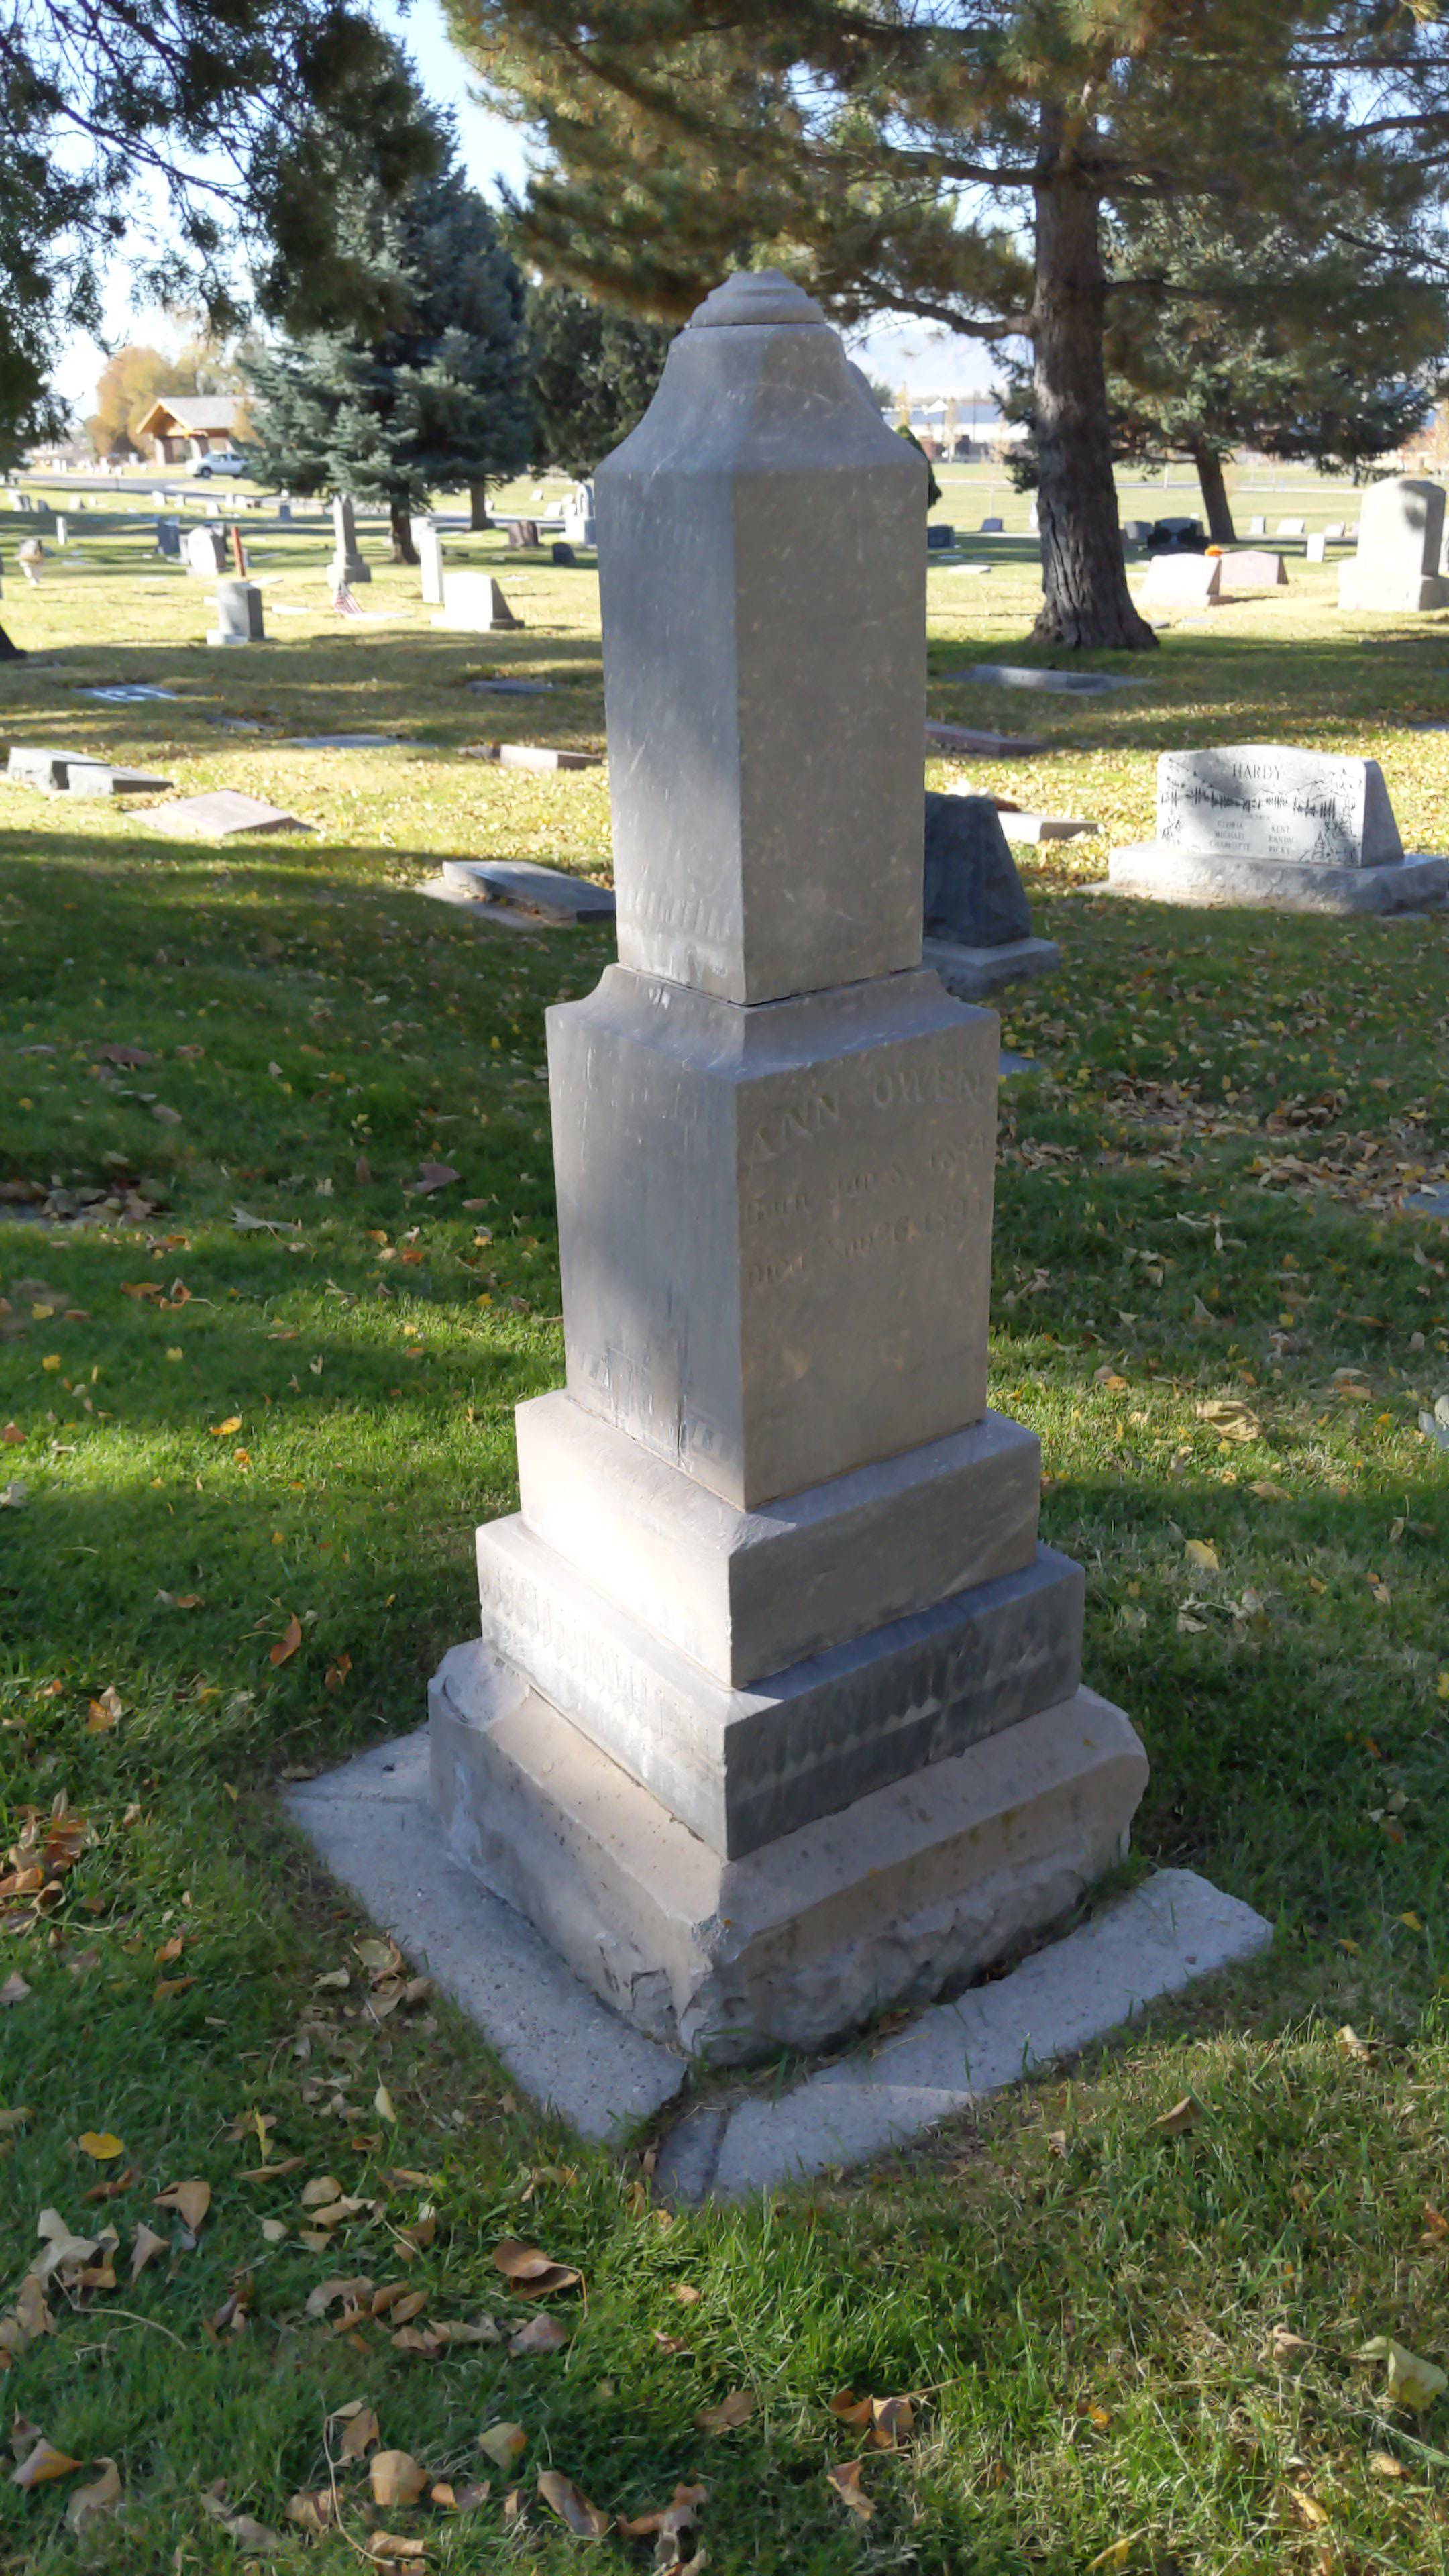obelisk: (517, 274, 1026, 1686)
